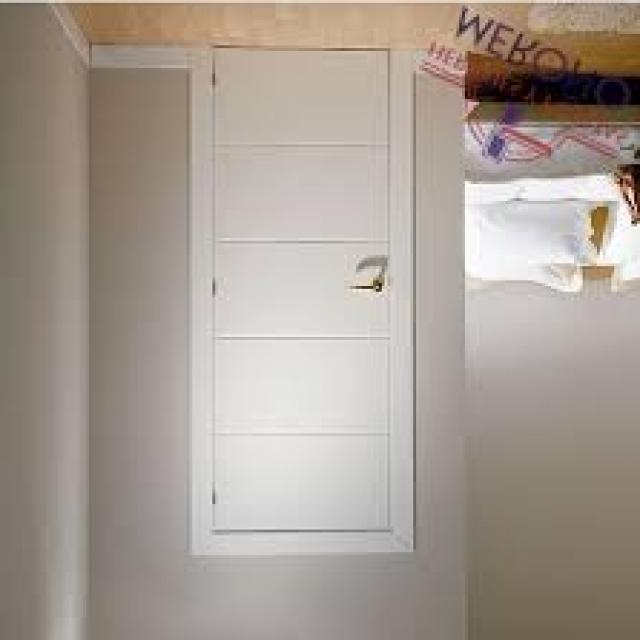door: (195, 46, 413, 554)
